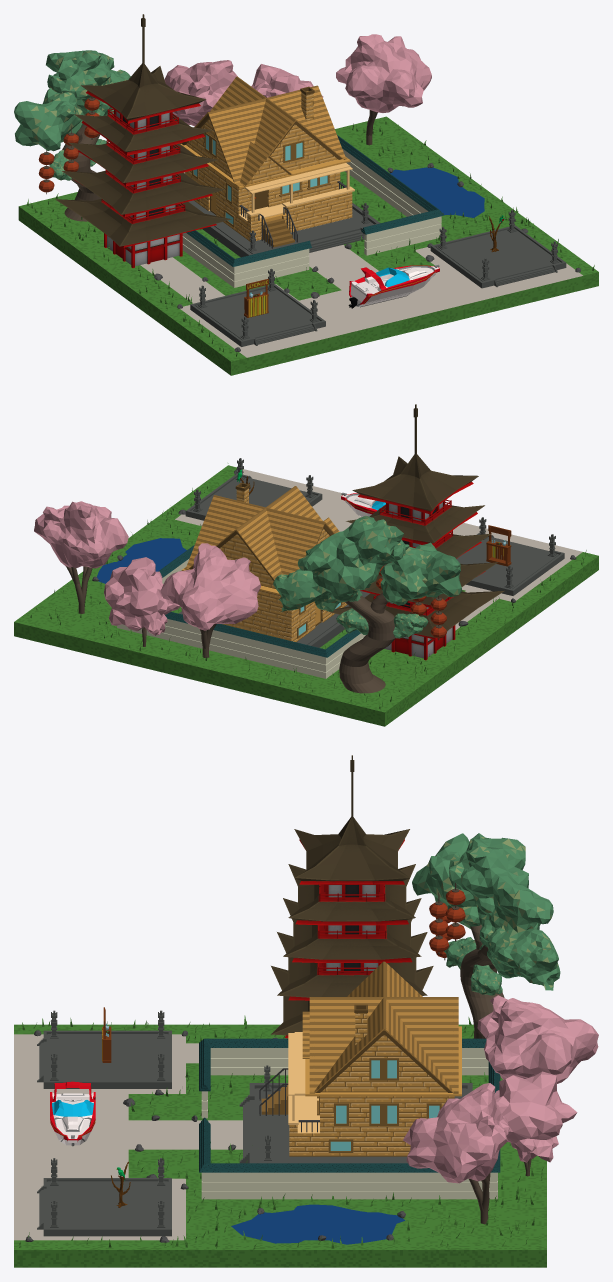
The picture shows the model from 3 angles, top to bottom: view 1: azimuth 30°, elevation 25°; view 2: azimuth 150°, elevation 25°; view 3: azimuth 270°, elevation 25°; orthographic projection. The views are drawn at different scales.
Visible parts, largest first — view 1: Cube.005, Cube.508, VEHICLES_BOAT, OBJRANDOM_LEMONADE_STAND; view 2: Cube.005, Cube.508, OBJRANDOM_LEMONADE_STAND, VEHICLES_BOAT; view 3: Cube.005, Cube.508, VEHICLES_BOAT.
Boxes of the visible parts, bbox=[...] form: Cube.005: bbox=[14, 14, 598, 375]; Cube.508: bbox=[179, 76, 354, 248]; VEHICLES_BOAT: bbox=[348, 264, 439, 308]; OBJRANDOM_LEMONADE_STAND: bbox=[244, 278, 268, 317]; Cube.005: bbox=[14, 404, 598, 726]; Cube.508: bbox=[181, 482, 347, 642]; OBJRANDOM_LEMONADE_STAND: bbox=[486, 525, 511, 566]; VEHICLES_BOAT: bbox=[341, 492, 385, 516]; Cube.005: bbox=[14, 755, 598, 1267]; Cube.508: bbox=[259, 961, 461, 1156]; VEHICLES_BOAT: bbox=[50, 1081, 95, 1146].
Bounding box in the file's own units: 4528 × 2693 × 4389.
Materials: 42 (6 with a texture image).
